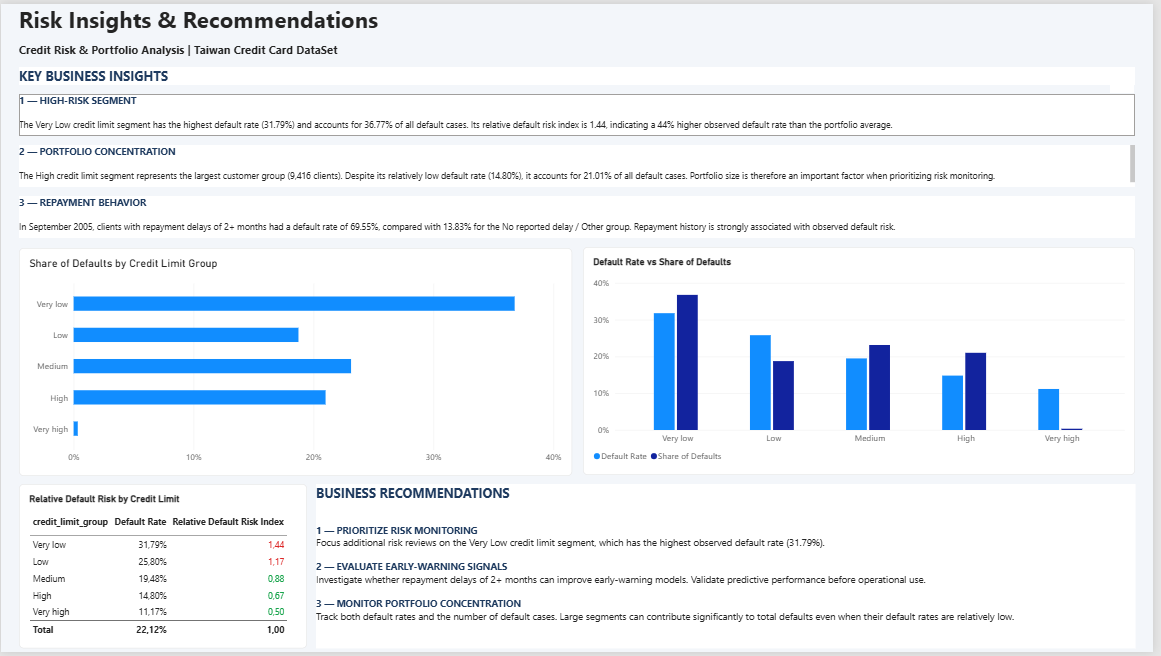

The dashboard page shown, as its layout file describes it:
{"tool":"powerbi","page":{"name":"Risk Insights & Recommendations","canvas":[1920,1080],"ordinal":2},"visuals":[{"type":"textbox","box":[30,0,631.9,63.5],"z":0},{"type":"textbox","box":[30,63.6,576.4,29.8],"z":1000},{"type":"clusteredBarChart","title":"Share of Defaults by Credit Limit Group","fields":{"Y":["credit_clients.Share of Defaults"],"Category":["credit_clients.credit_limit_group"]},"box":[29.6,406,921.7,380],"z":2000},{"type":"clusteredColumnChart","title":"Default Rate vs Share of Defaults","fields":{"Category":["credit_clients.credit_limit_group"],"Y":["credit_clients.Default Rate","credit_clients.Share of Defaults"]},"box":[970,405.2,920,380],"z":3000},{"type":"tableEx","title":"Relative Default Risk by Credit Limit","fields":{"Values":["credit_clients.credit_limit_group","credit_clients.Default Rate","credit_clients.Relative Default Risk Index"]},"box":[30,799.7,480,274],"z":4000},{"type":"textbox","box":[30,150,1860,70],"z":5000},{"type":"textbox","box":[30,320,1860,70],"z":6000},{"type":"textbox","box":[30,235,1860,70],"z":7000},{"type":"textbox","box":[30,105.8,1860,30.2],"z":8000},{"type":"textbox","box":[525.6,800,1365.6,274.4],"z":9000}]}

Visuals, with their boxes in screenshot pixels (x1, y1, x2, y2), scaled from the page's 1920x1080 canvas onto the 1161x656 screenshot:
textbox: (left=18, top=0, right=400, bottom=39)
textbox: (left=18, top=39, right=367, bottom=57)
"Share of Defaults by Credit Limit Group" clusteredBarChart: (left=18, top=247, right=575, bottom=477)
"Default Rate vs Share of Defaults" clusteredColumnChart: (left=587, top=246, right=1143, bottom=477)
"Relative Default Risk by Credit Limit" tableEx: (left=18, top=486, right=308, bottom=652)
textbox: (left=18, top=91, right=1143, bottom=134)
textbox: (left=18, top=194, right=1143, bottom=237)
textbox: (left=18, top=143, right=1143, bottom=185)
textbox: (left=18, top=64, right=1143, bottom=83)
textbox: (left=318, top=486, right=1144, bottom=653)
